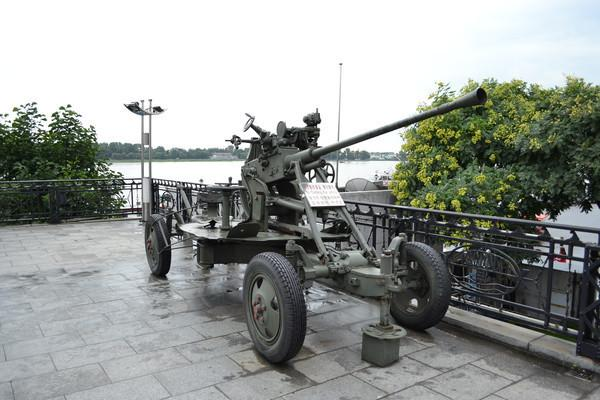MIL_SPG: (145, 88, 486, 365)
